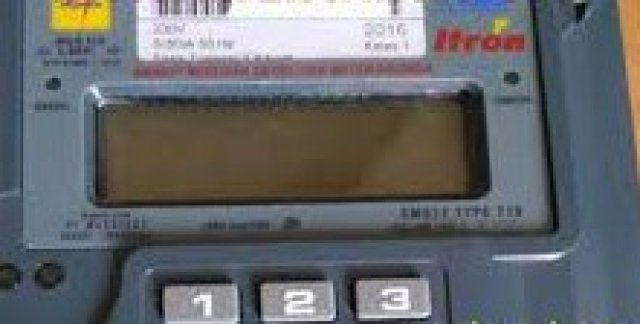box: (101, 102, 478, 205)
